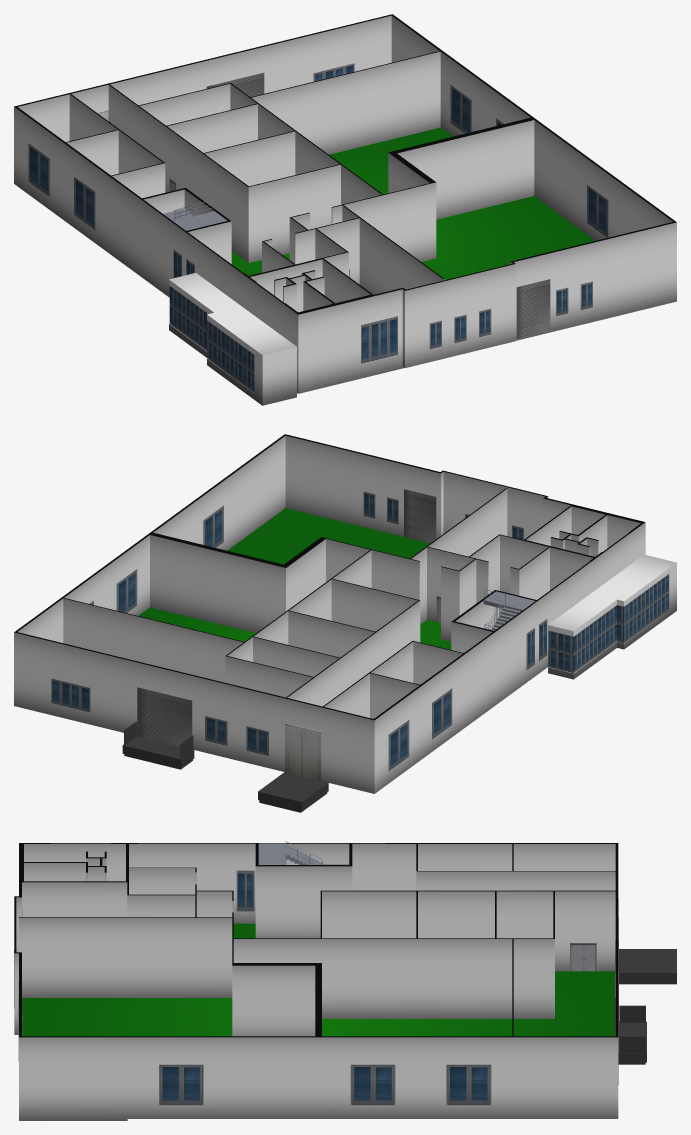
Rendered from soulbrain_T2-12 A-2F.glb.
3 views of the same model, one above another, from view 1: azimuth 30°, elevation 25°; view 2: azimuth 150°, elevation 25°; view 3: azimuth 270°, elevation 25° (orthographic). The views are drawn at different scales.
Parts seen in each view (by area): view 1: T2-12 A-2F, Box119, Box215; view 2: T2-12 A-2F, Box119, Box215; view 3: T2-12 A-2F, Box119, Box215, Box099.
Part boxes in pixels (x1,y1,x2,y2): T2-12 A-2F: [14, 14, 676, 405]; Box119: [231, 127, 595, 279]; Box215: [163, 200, 227, 230]; T2-12 A-2F: [14, 434, 676, 812]; Box119: [138, 508, 451, 649]; Box215: [483, 589, 535, 630]; T2-12 A-2F: [14, 843, 676, 1120]; Box119: [22, 923, 614, 1036]; Box215: [258, 841, 349, 864]; Box099: [570, 943, 596, 971].
Size of the model in its own units: 33.57 by 7.8 by 44.27.
10 materials, 8 textured.
